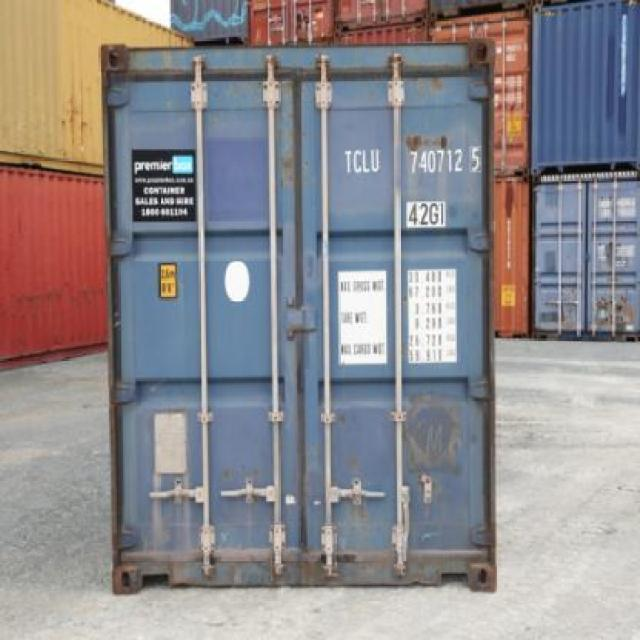ISO: (402, 193, 448, 230)
container_number: (340, 151, 480, 174)
